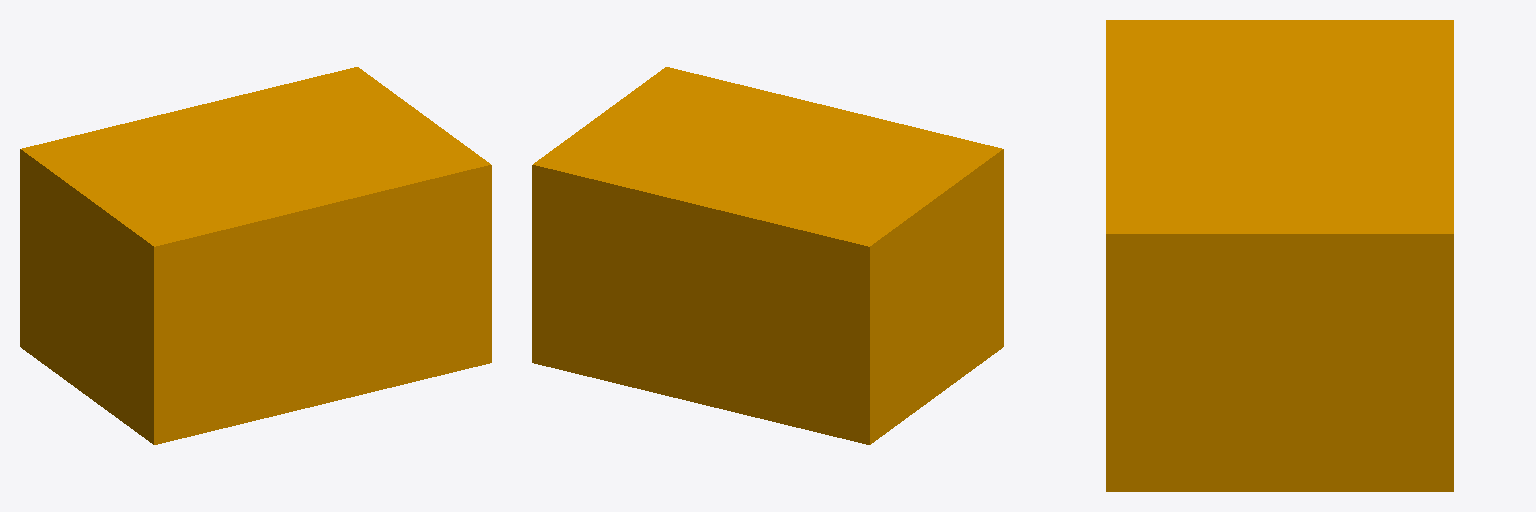
robot.urdf — 2x2:
<?xml version='1.0' encoding='UTF-8'?>
<robot name="2x2">
  <link name="base_link">
    <inertial>
      <origin xyz="0.0 0.0 0.0" rpy="0.0 0.0 0.0"/>
      <mass value="0.01"/>
      <inertia ixx="0.1" ixy="0.0" ixz="0.0" iyy="0.1" iyz="0.0" izz="0.1"/>
    </inertial>
    <visual>
      <geometry>
        <box size="0.032 0.022 0.018"/>
      </geometry>
      <material name=""/>
      <origin xyz="0.0 0.0 0.0" rpy="0.0 0.0 0.0"/>
    </visual>
    <collision>
      <geometry>
        <box size="0.032 0.022 0.018"/>
      </geometry>
      <origin xyz="0.0 0.0 0.0" rpy="0.0 0.0 0.0"/>
    </collision>
  </link>
  <material name="">
    <color rgba="0.577 0.063 0.128 1.   "/>
  </material>
  <contact>
    <lateral_friction value="1.0"/>
    <rolling_friction value="0.0"/>
    <contact_cfm value="0.0"/>
    <contact_erp value="1.0"/>
  </contact>
</robot>

--- Render facts (derived) ---
3 views of the same robot in one strip: view 1: azimuth 30°, elevation 25°; view 2: azimuth 150°, elevation 25°; view 3: azimuth 270°, elevation 25° (orthographic).
Model 2x2 with 1 links and 0 joints (none), rooted at base_link, posed every joint at zero.
Links seen in each view (by area): view 1: base_link; view 2: base_link; view 3: base_link.
Boxes of the visible links, bbox=[...] form: base_link: bbox=[20, 67, 491, 444]; base_link: bbox=[532, 67, 1003, 444]; base_link: bbox=[1106, 20, 1453, 491].
Bounding box of the posed robot: 0.032 × 0.022 × 0.018 m (x, y, z).
Geometry: primitives only (box / cylinder / sphere), no mesh files.